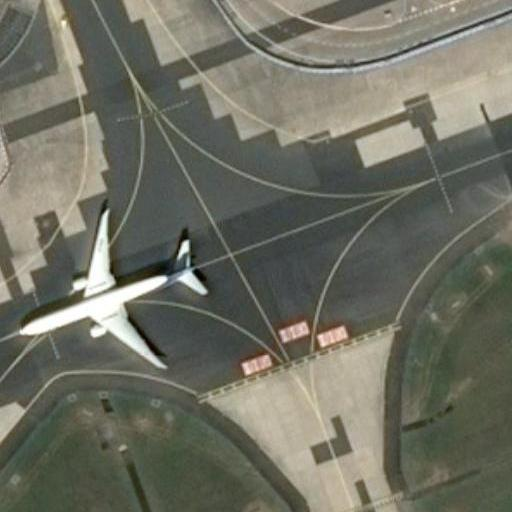Aircraft: (3, 190, 214, 376)
